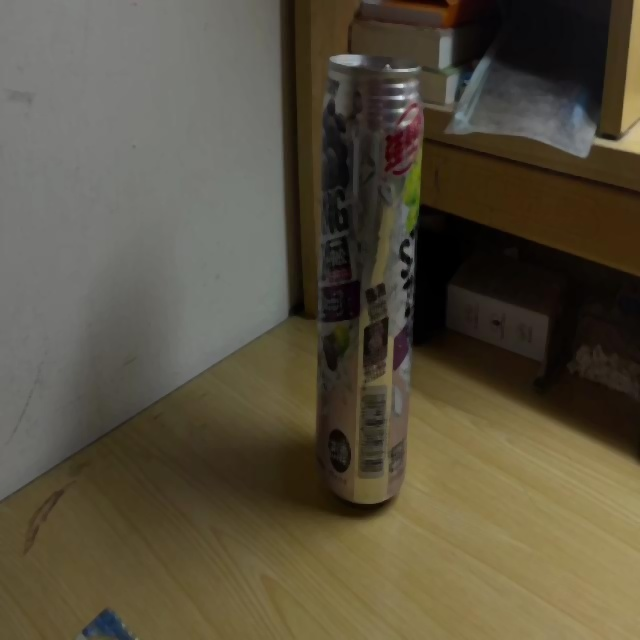Liquor: (315, 51, 423, 514)
